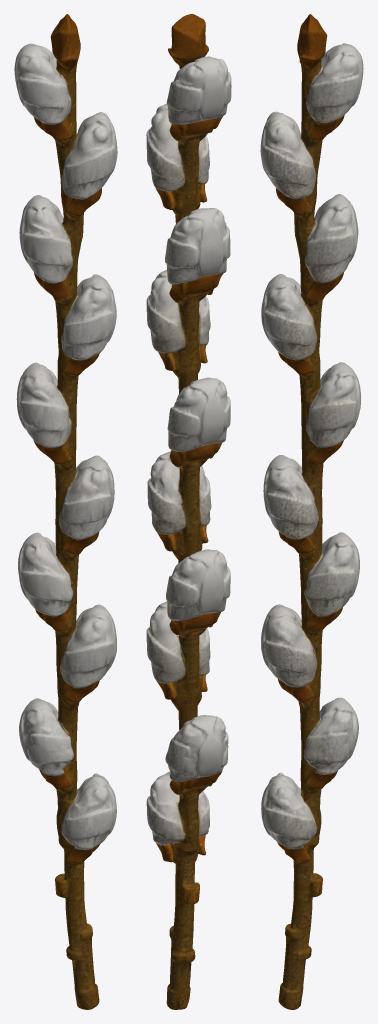
Rendered from Pussy Willow.glb.
The picture shows the model from 3 angles, left to right: view 1: azimuth 90°, elevation 25°; view 2: azimuth 210°, elevation 25°; view 3: azimuth 270°, elevation 25°; orthographic projection.
Visible parts, largest first — view 1: tripo_node_9fd0cab3-9a67-49b1-affa-865d07e4b084; view 2: tripo_node_9fd0cab3-9a67-49b1-affa-865d07e4b084; view 3: tripo_node_9fd0cab3-9a67-49b1-affa-865d07e4b084.
Boxes of the visible parts, x1,y1,x2,y2 form: tripo_node_9fd0cab3-9a67-49b1-affa-865d07e4b084: (14,14,117,1009); tripo_node_9fd0cab3-9a67-49b1-affa-865d07e4b084: (146,14,231,1009); tripo_node_9fd0cab3-9a67-49b1-affa-865d07e4b084: (260,14,363,1009).
Size of the model in its own units: 0.0602 by 1 by 0.0942.
1 material, 1 textured.
